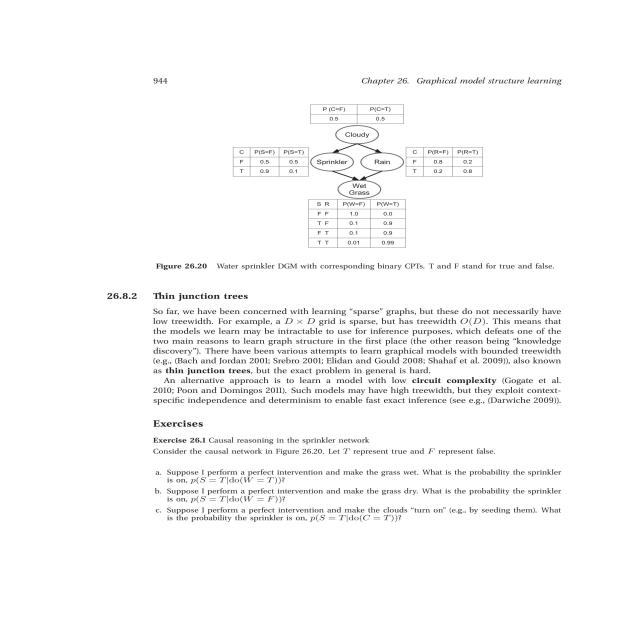diagram: (108, 90, 598, 281)
